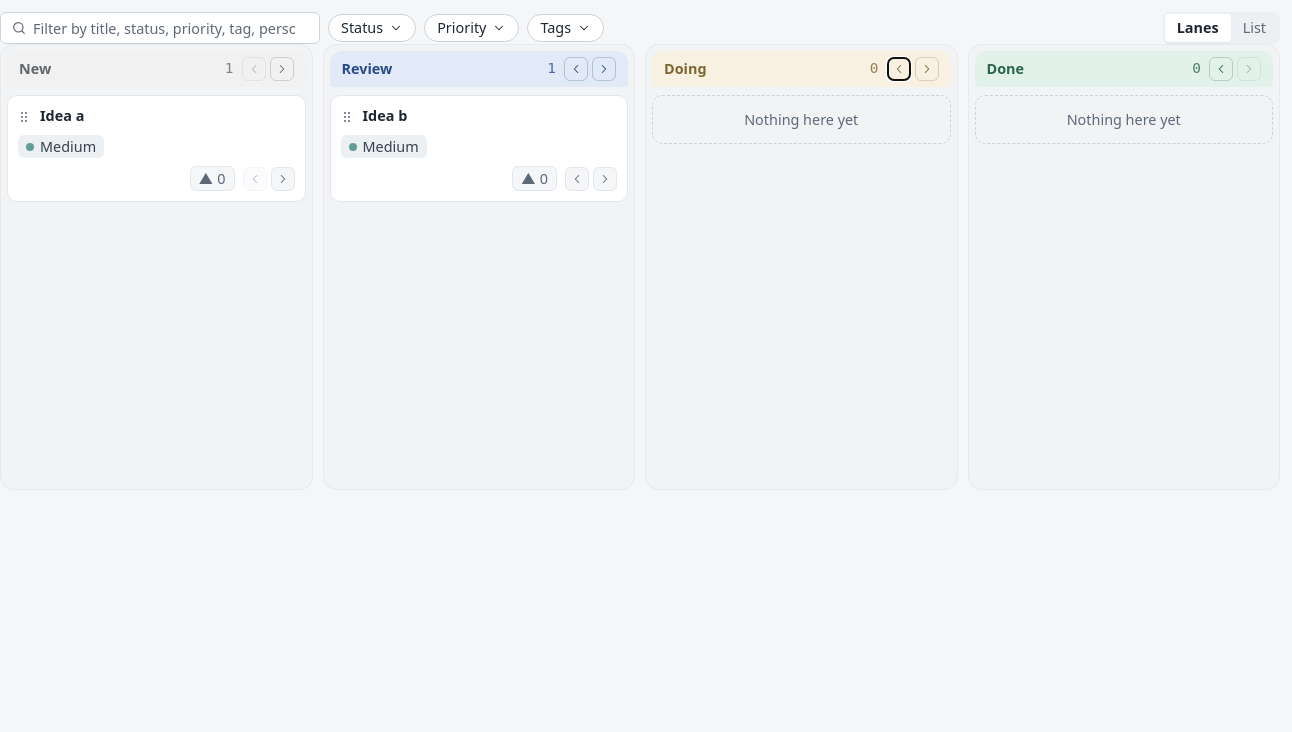
Test: lane arrows › clear a refusal after the next save succeeds
The image size is (1292, 732).
Click the button named "Move the Doing lane left".
click(898, 69)  # box [886, 57, 910, 81]
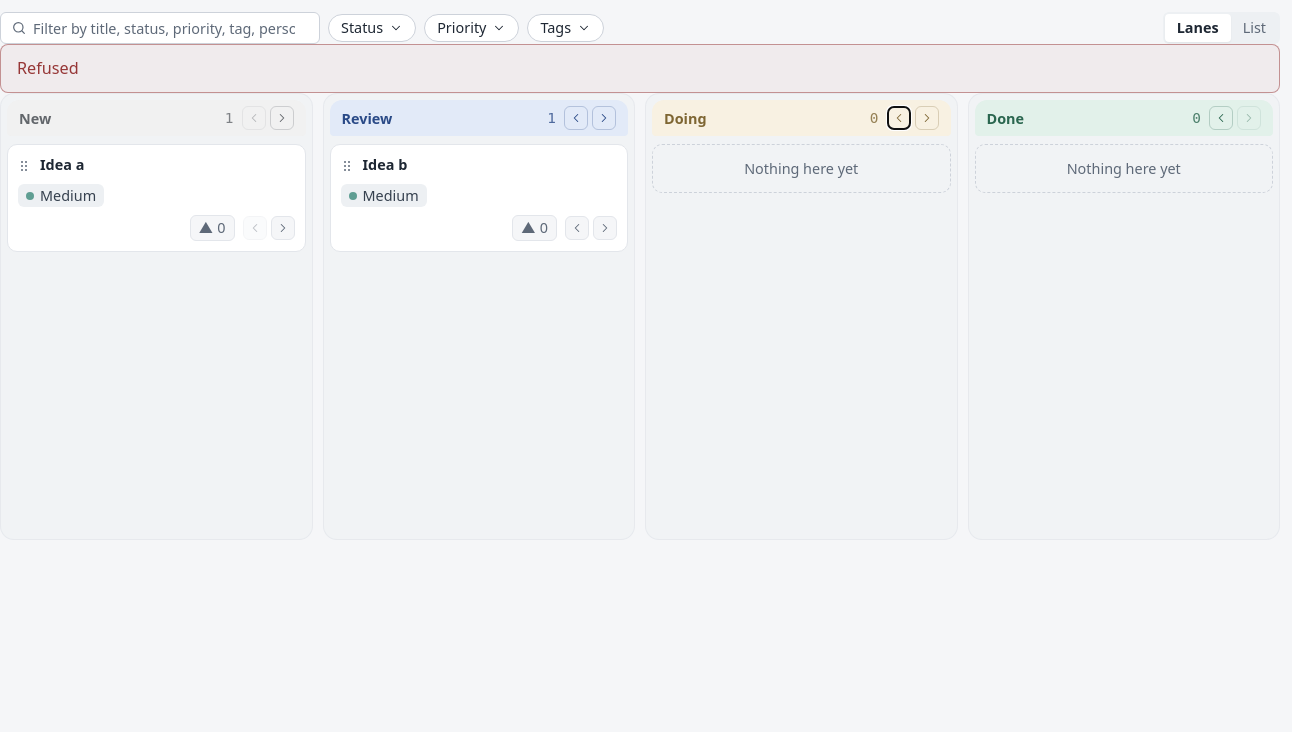
Expected: the message "Refused" is shown, [0, 44, 1280, 93]
Click the button named "Move the Doing lane left".
click(898, 118)  # box [886, 106, 910, 130]
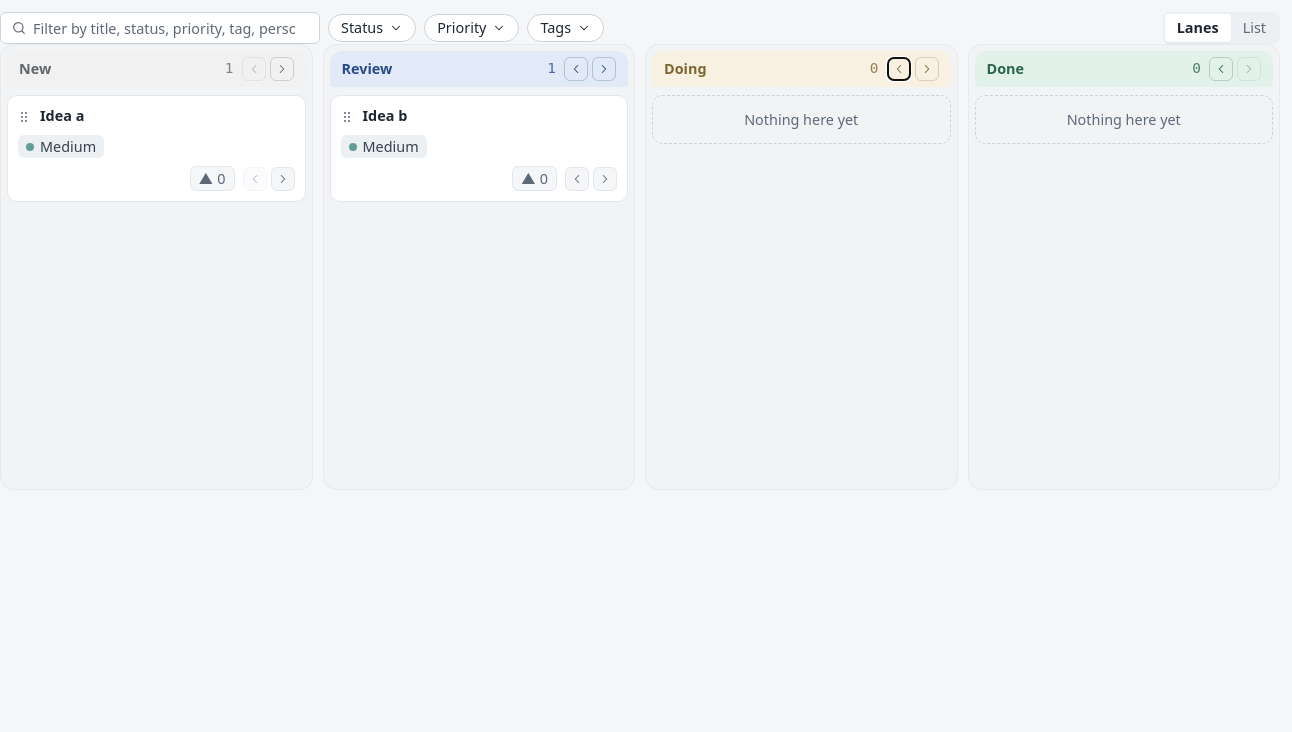
Expected: the message "Refused" is gone
